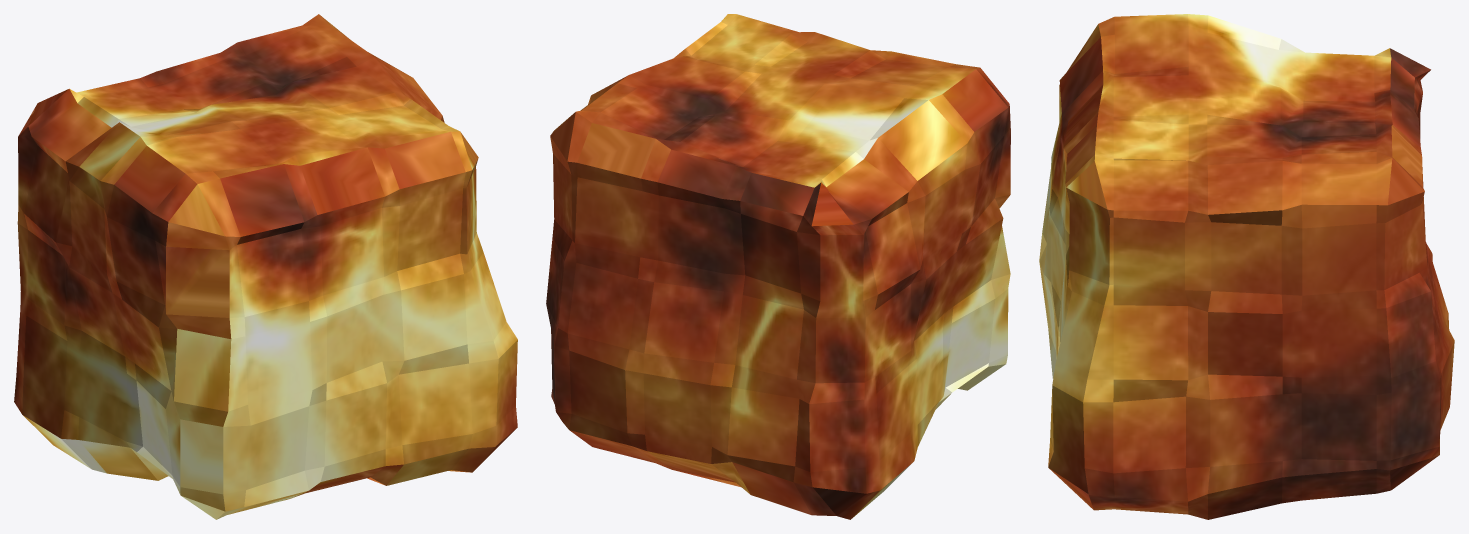
File: explosion_cube.glb
The picture shows the model from 3 angles, left to right: view 1: azimuth 30°, elevation 25°; view 2: azimuth 150°, elevation 25°; view 3: azimuth 270°, elevation 25°; orthographic projection. The views are drawn at different scales.
Visible parts, largest first — view 1: Cube; view 2: Cube; view 3: Cube.
Part boxes in pixels (x1,y1,x2,y2): Cube: [14, 14, 517, 519]; Cube: [546, 14, 1010, 519]; Cube: [1039, 14, 1454, 519].
Size of the model in its own units: 1.12 by 1.09 by 1.1.
1 material, 1 textured.
